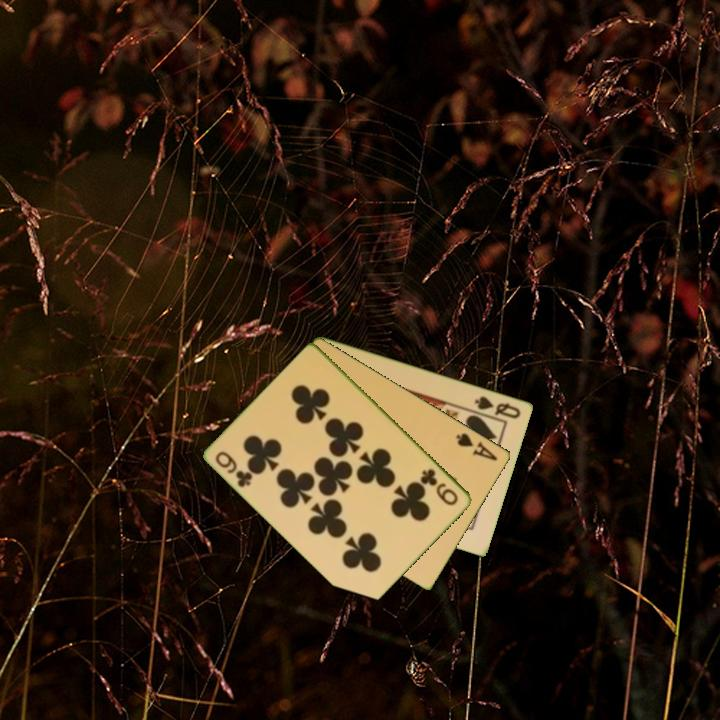9c: (417, 465, 461, 509), (212, 447, 256, 490)
As: (453, 429, 501, 464)
Qs: (471, 392, 524, 421)
